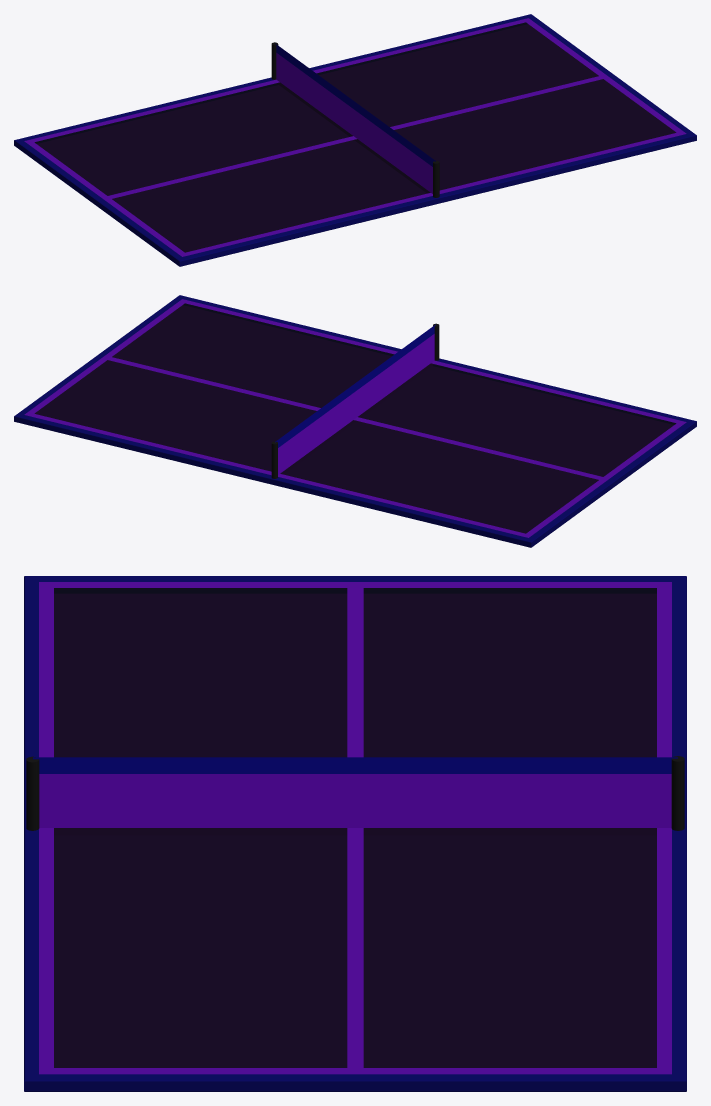
File: table8.obj
3 views of the same model, one above another, from view 1: azimuth 30°, elevation 25°; view 2: azimuth 150°, elevation 25°; view 3: azimuth 270°, elevation 25° (orthographic). The views are drawn at different scales.
Visible parts, largest first — view 1: Box001_Untitled.003, Plane001_Untitled.015; view 2: Box001_Untitled.003, Plane001_Untitled.015; view 3: Box001_Untitled.003, Plane001_Untitled.015, Cylinder001_Untitled.008, Cylinder002_Untitled.
Boxes of the visible parts, x1,y1,x2,y2 form: Box001_Untitled.003: [14, 14, 696, 266]; Plane001_Untitled.015: [275, 43, 435, 193]; Box001_Untitled.003: [14, 295, 696, 547]; Plane001_Untitled.015: [275, 324, 435, 474]; Box001_Untitled.003: [24, 576, 686, 1091]; Plane001_Untitled.015: [33, 757, 677, 834]; Cylinder001_Untitled.008: [671, 756, 684, 830]; Cylinder002_Untitled: [26, 756, 39, 830].
Bounding box in the file's own units: 2.74 × 0.2092 × 1.52.
